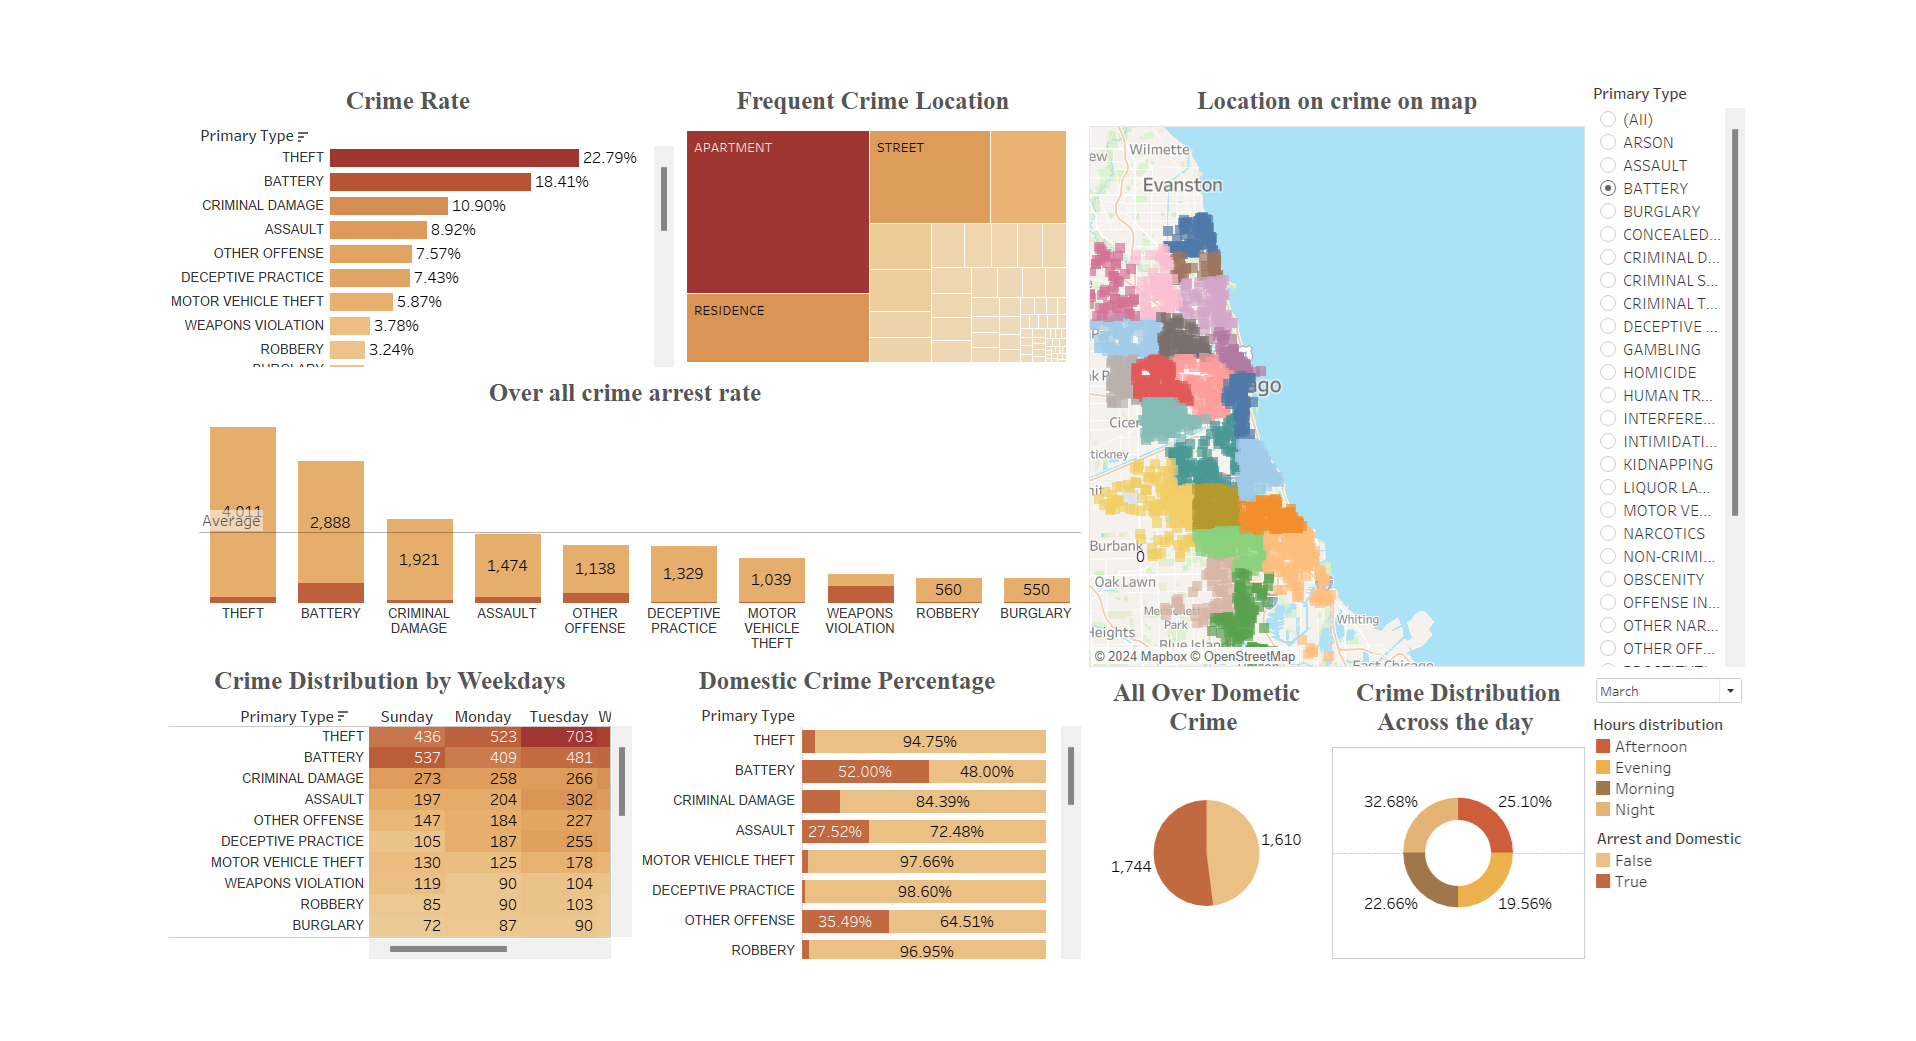

What the dashboard file says about the page in this screenshot:
{"tool":"tableau","page":{"name":"Final dashboard","canvas":[1600,900],"ordinal":1},"visuals":[{"type":"worksheet","title":"Crime Rate ","mark":"Automatic","rows":["Primary Type"],"box":[8,8,513,292]},{"type":"worksheet","title":"Frequent Crime Locations","mark":"Automatic","box":[521,8,407,292]},{"type":"worksheet","title":"Locations of crimes map","mark":"Square","rows":["Latitude"],"cols":["Longitude"],"box":[928,8,504,592]},{"type":"filter","title":"Locations of crimes map","param":"[federated.03w57gn07drjrn19cls6y1ppmia5].[none:Primary Type:nk]","box":[1432,8,160,592]},{"type":"worksheet","title":"Over all crime arrest rate","mark":"Automatic","rows":["2022_DFE4C026A81B4CF38B305F8581E16942"],"cols":["Primary Type"],"box":[8,300,920,288]},{"type":"worksheet","title":"Crime Distribution by Weekdays","mark":"Square","rows":["Primary Type"],"cols":["Date"],"box":[8,588,471,304]},{"type":"worksheet","title":"Domestic Crime Percentage","mark":"Automatic","rows":["Primary Type"],"box":[479,588,449,304]},{"type":"worksheet","title":"All Over Dometic Crime ","mark":"Pie","box":[928,600,243,292]},{"type":"worksheet","title":"Crime Distribution across the day","mark":"Pie","rows":["Calculation_1383730992767197185","Calculation_1383730992767197185"],"box":[1171,600,261,292]},{"type":"filter","title":"Over all crime arrest rate","param":"[federated.03w57gn07drjrn19cls6y1ppmia5].[mn:Date:ok]","box":[1432,600,160,39]},{"type":"legend","title":"Crime Distribution across the day","param":"[federated.03w57gn07drjrn19cls6y1ppmia5].[none:Calculation_1383730992762433536:n","box":[1432,639,160,114]},{"type":"legend","title":"All Over Dometic Crime ","param":"[federated.03w57gn07drjrn19cls6y1ppmia5].[none:Domestic:nk]","box":[1432,753,160,72]}]}

Visuals, with their boxes on the page's 1600x900 design canvas (x1, y1, x2, y2). These are canvas units, not pixel positions in the 1916x1041 screenshot, which may show the page scaled, cropped or inside an application window:
"Crime Rate " worksheet: (8,8,521,300)
"Frequent Crime Locations" worksheet: (521,8,928,300)
"Locations of crimes map" worksheet (Square marks): (928,8,1432,600)
"Locations of crimes map" filter: (1432,8,1592,600)
"Over all crime arrest rate" worksheet: (8,300,928,588)
"Crime Distribution by Weekdays" worksheet (Square marks): (8,588,479,892)
"Domestic Crime Percentage" worksheet: (479,588,928,892)
"All Over Dometic Crime " worksheet (Pie marks): (928,600,1171,892)
"Crime Distribution across the day" worksheet (Pie marks): (1171,600,1432,892)
"Over all crime arrest rate" filter: (1432,600,1592,639)
"Crime Distribution across the day" legend: (1432,639,1592,753)
"All Over Dometic Crime " legend: (1432,753,1592,825)
